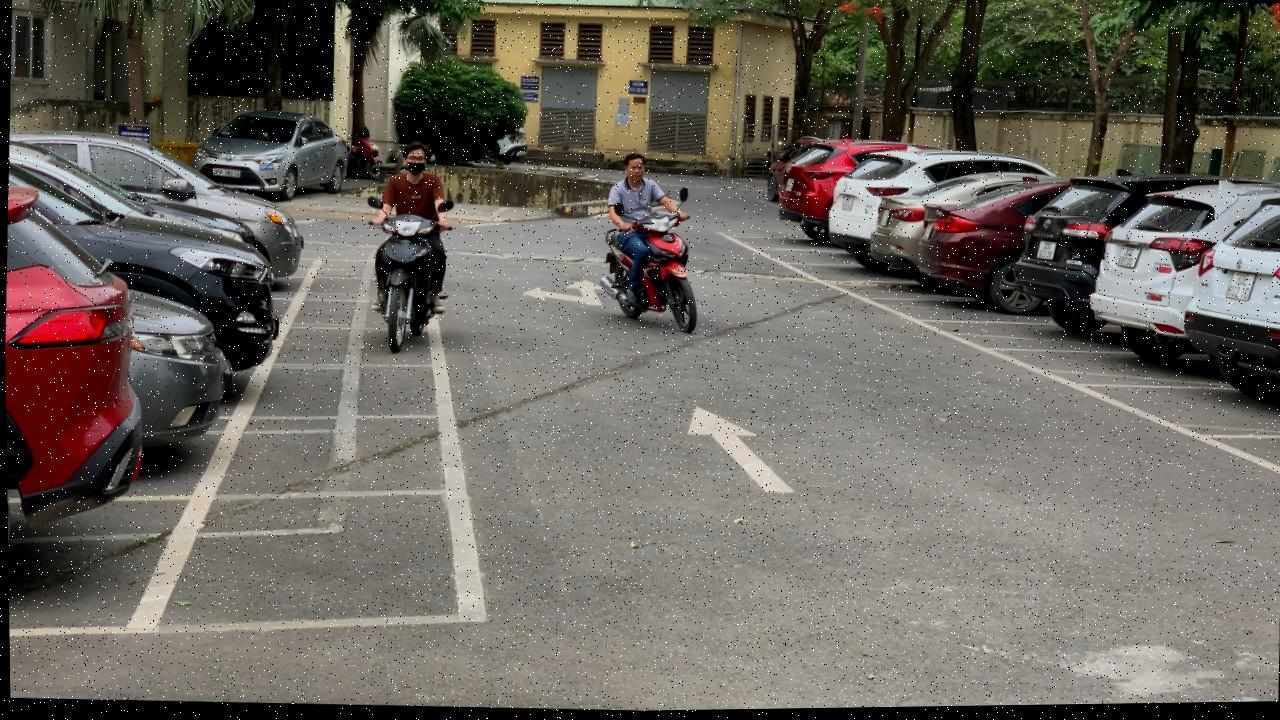motorcyclist: (358, 139, 455, 356), (596, 153, 703, 337)
